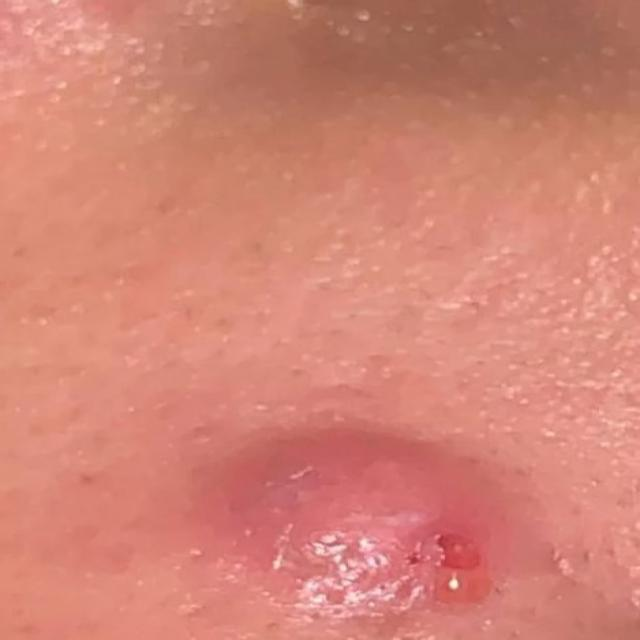nodule: (227, 428, 500, 620)
